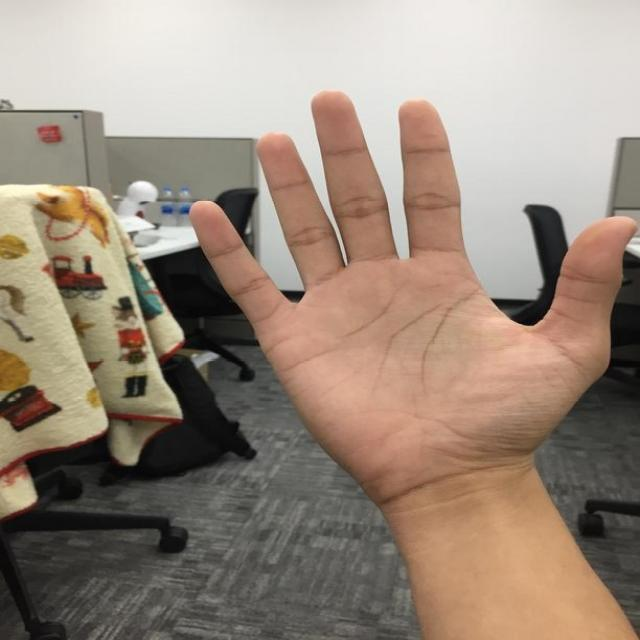hand: (187, 89, 640, 497)
